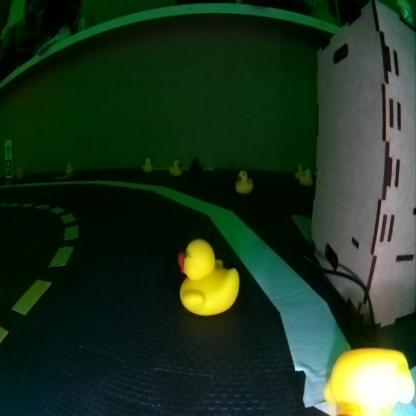Duckie: (328, 346, 414, 412), (177, 240, 238, 312), (235, 170, 252, 192), (298, 170, 312, 184), (169, 159, 180, 174), (142, 157, 152, 171), (294, 164, 302, 178), (65, 162, 73, 172), (17, 166, 23, 178)
Intersection sign: (5, 142, 11, 156)
QR code: (5, 158, 12, 174)
